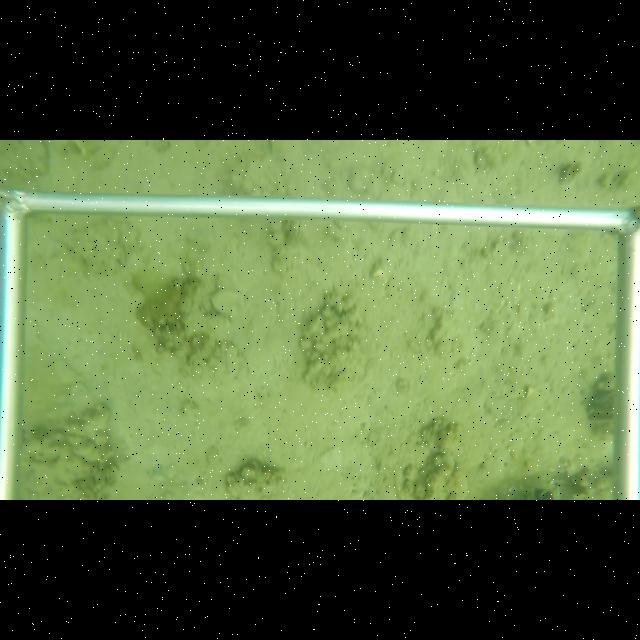Oyster-Closed: (211, 288, 242, 317)
